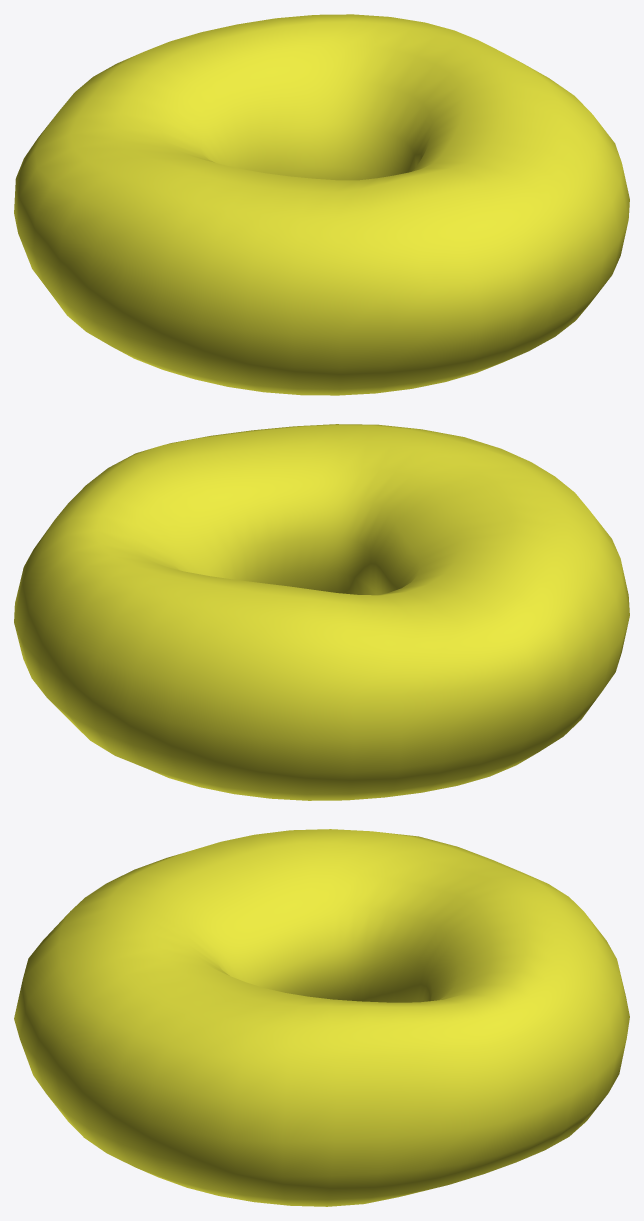
File: Donut.glb
The picture shows the model from 3 angles, top to bottom: view 1: azimuth 30°, elevation 25°; view 2: azimuth 150°, elevation 25°; view 3: azimuth 270°, elevation 25°; orthographic projection.
Parts seen in each view (by area): view 1: Torus.002; view 2: Torus.002; view 3: Torus.002.
Boxes of the visible parts, left/top/right/bottom form: Torus.002: left=14, top=14, right=629, bottom=395; Torus.002: left=14, top=424, right=629, bottom=800; Torus.002: left=14, top=829, right=629, bottom=1206.
Size of the model in its own units: 0.0982 by 0.0342 by 0.1004.
